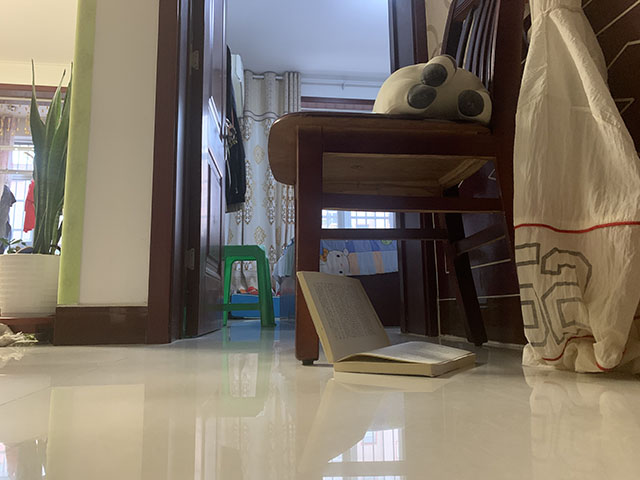book: (294, 269, 480, 379)
stool: (267, 1, 525, 366), (221, 245, 276, 325)
